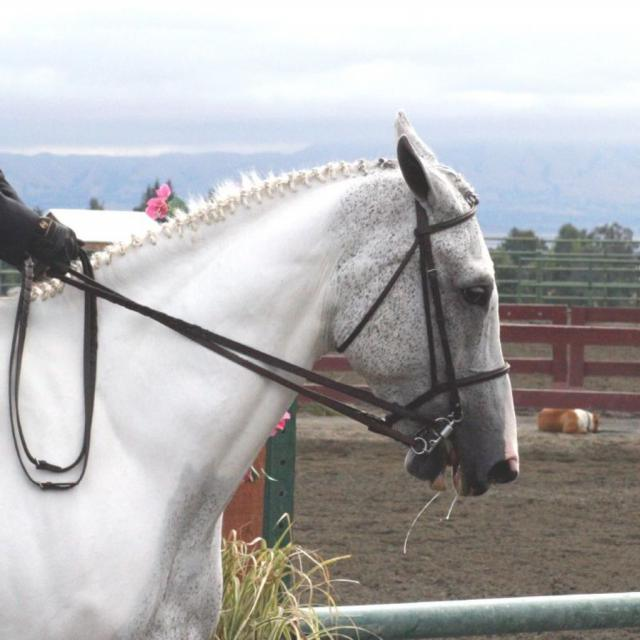Horse: (0, 108, 519, 639), (538, 406, 600, 438)
